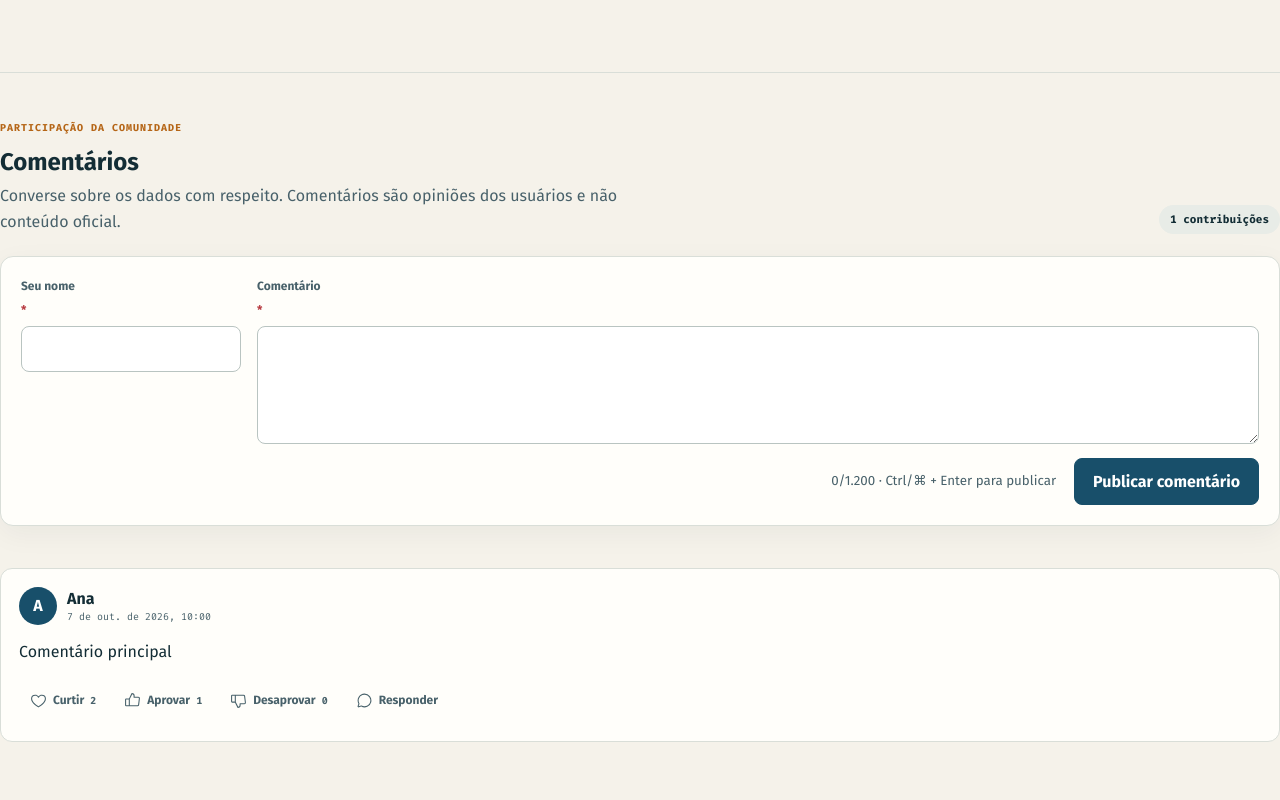
Test: CommentSection › shows reactions and moves focus to a reply with clear context
Expected: the text "Comentário principal" is shown, [19,642,172,661]
Expected: the button with aria-label "Curtir comentário de Ana" shows "2", [19,679,107,723]
Step 1. Click the button "Responder" → [397, 701], box [345,679,449,723]
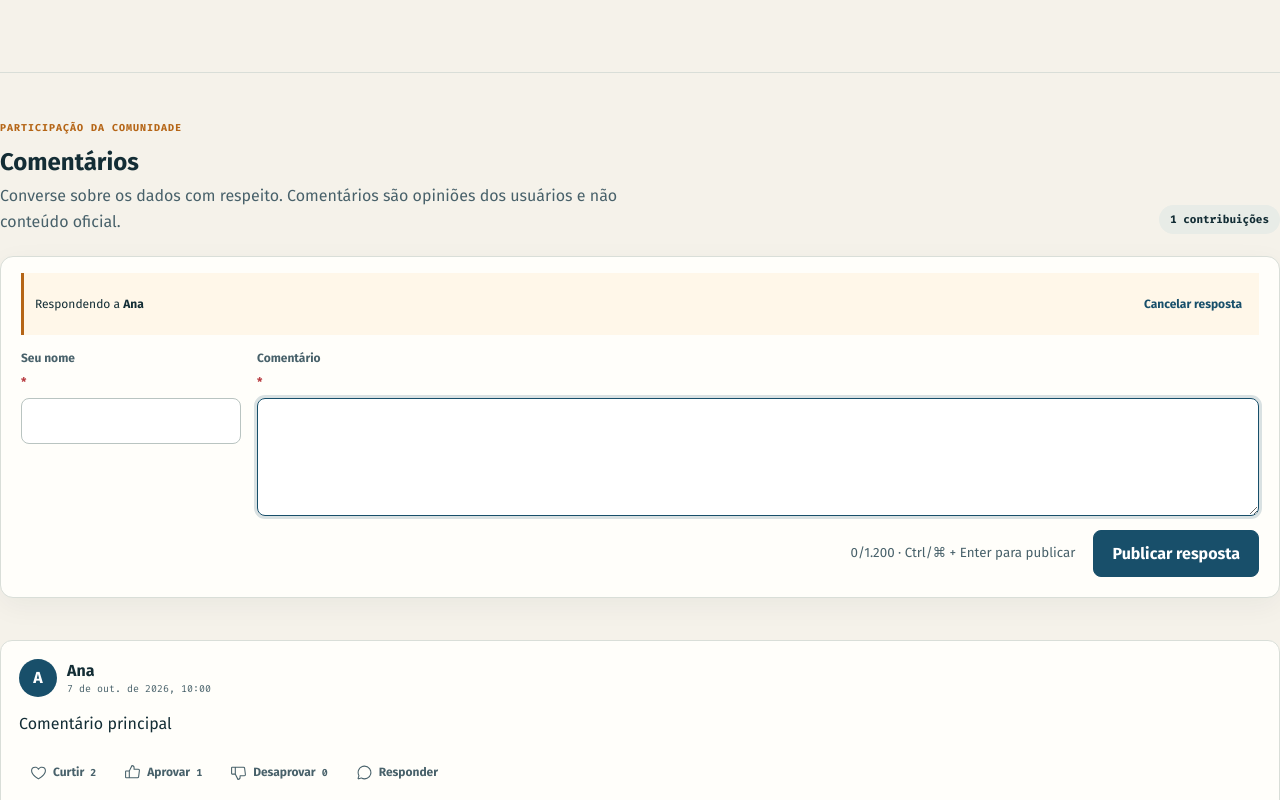
Expected: the text "Respondendo a Ana" is shown, [35,295,144,314]
